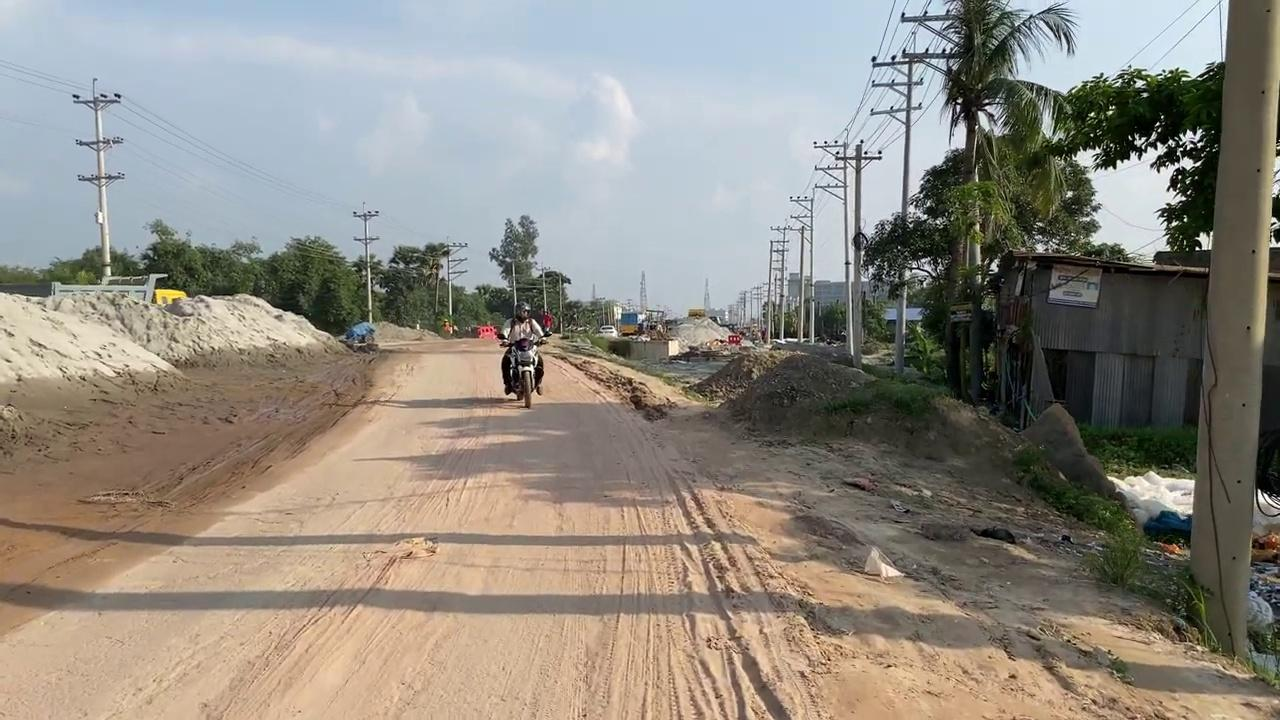Light-pole: (71, 76, 125, 280)
Motorcycle: (497, 334, 549, 408)
Obstacle: (606, 335, 679, 362)
Pole: (1188, 0, 1279, 661)
Rickshaw: (597, 375, 1276, 715)
Traffic-sign: (893, 0, 1080, 403), (487, 213, 539, 317)
Tree: (50, 273, 187, 306), (616, 309, 665, 337), (337, 321, 378, 353), (152, 288, 187, 306), (617, 311, 640, 336), (687, 308, 705, 318)
Upstairs: (994, 249, 1278, 433)
